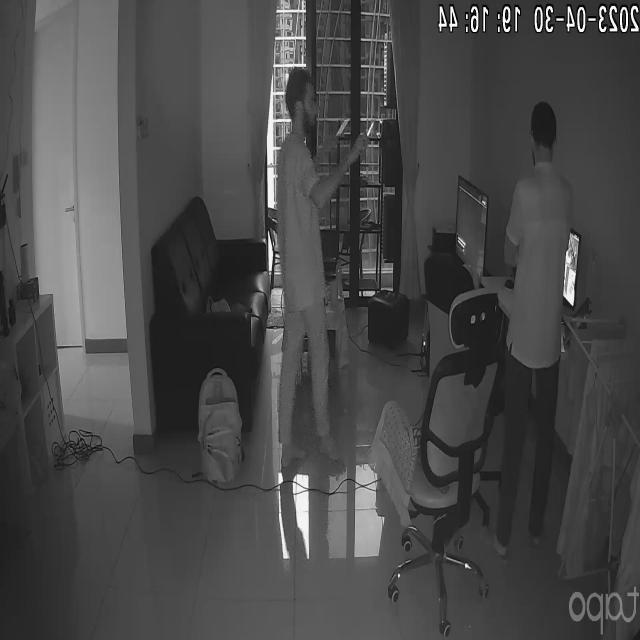Knife: (353, 108, 382, 162)
